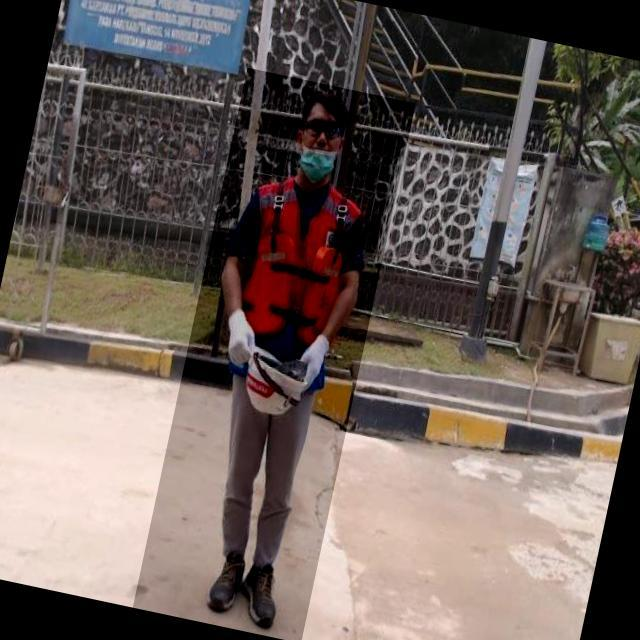Helmet: (239, 343, 313, 422)
Human: (132, 67, 415, 640)
Safety Boot: (233, 555, 290, 633), (202, 546, 248, 618)
Safety Vest: (221, 170, 367, 393)
